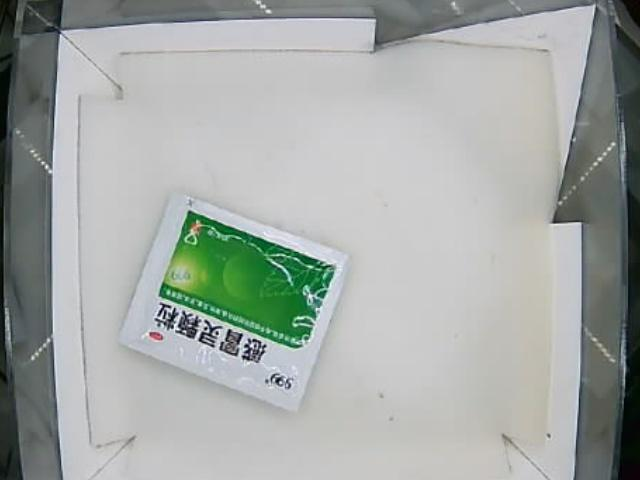Medicine: (117, 188, 347, 413)
